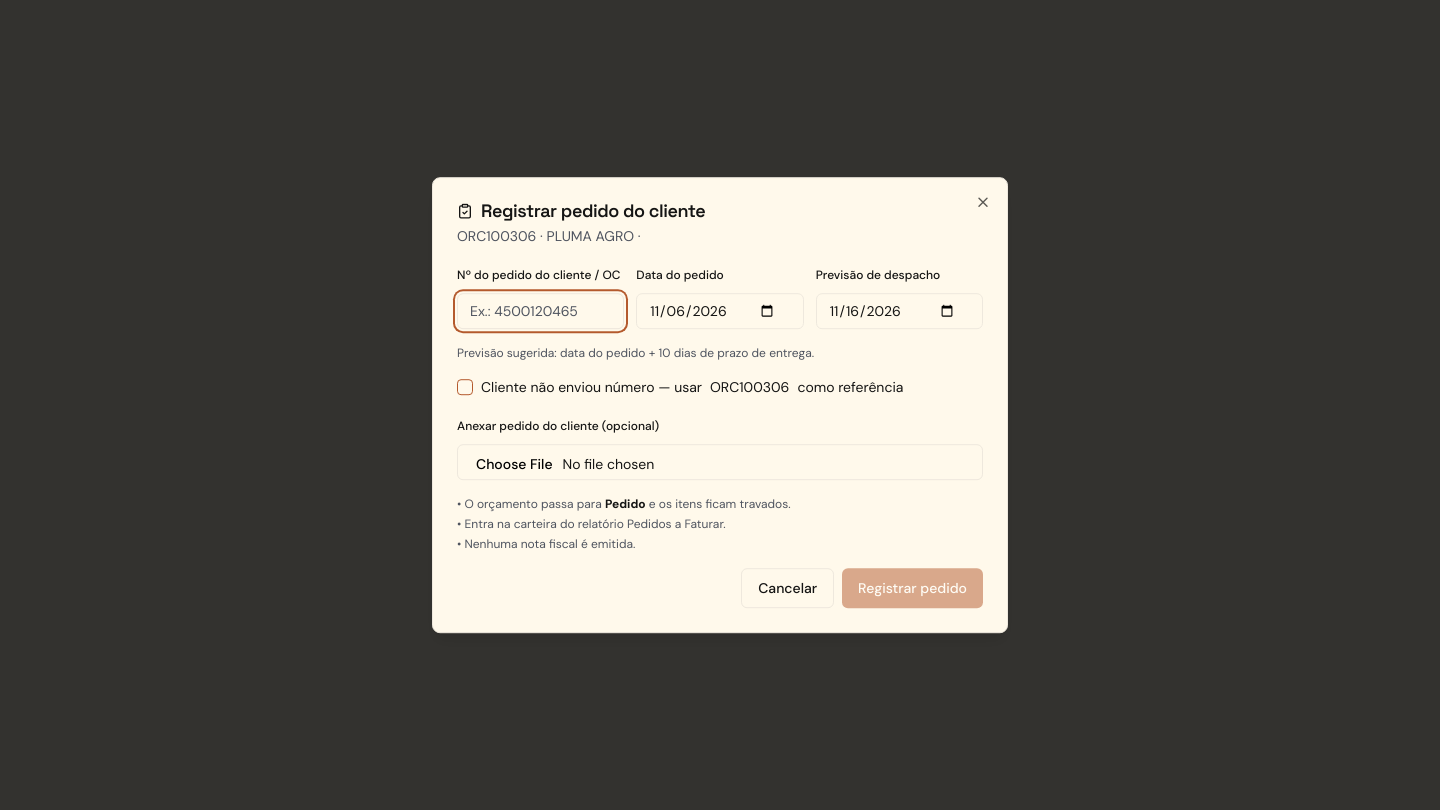
it: RegistrarPedidoDialog › usar o nº do orçamento libera o registro sem número do cliente
This screenshot has width=1440, height=810.
Later steps or results of the test are not shown.
Click the checkbox at (465,387), box [457,379,473,395]
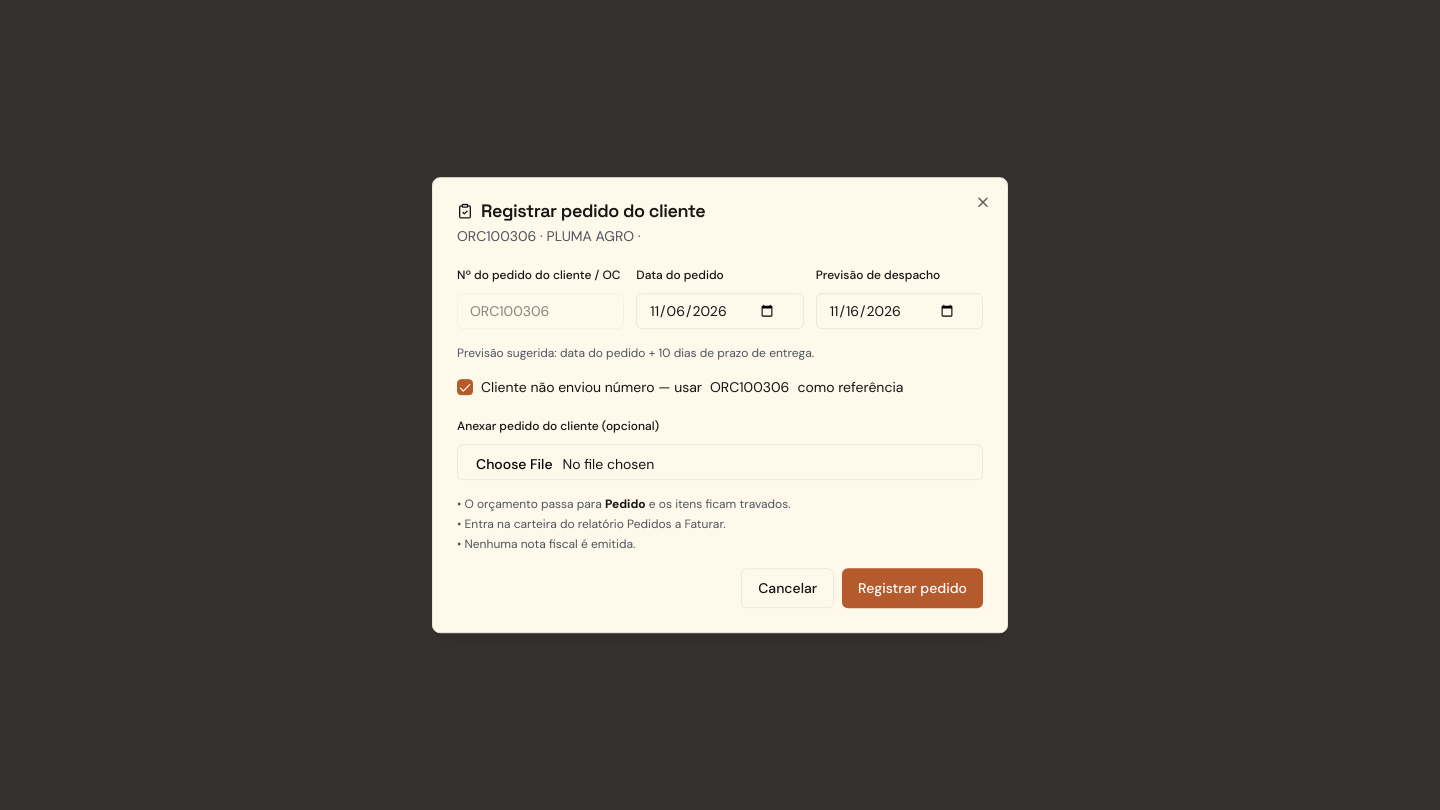
Expected: the field labelled "Nº do pedido do cliente / OC" holds "ORC100306", [457,293,624,329]
